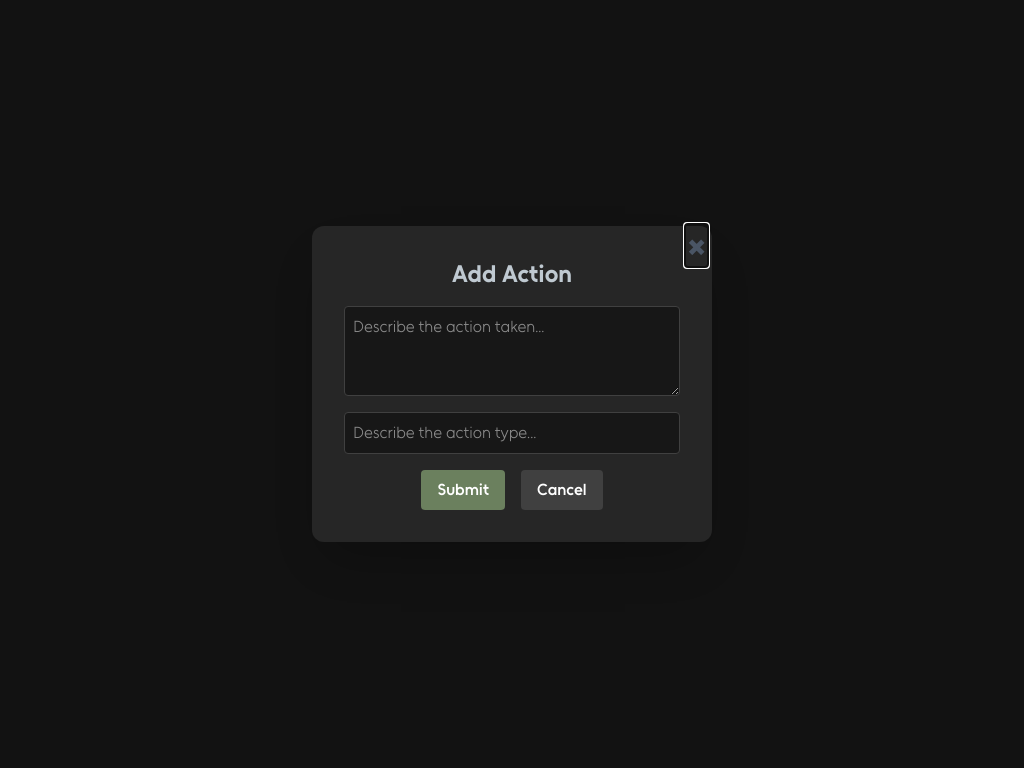
Test: shows error if submitted empty
Click the button "Submit" at coordinates (463, 490), box 421,470 -> 505,510
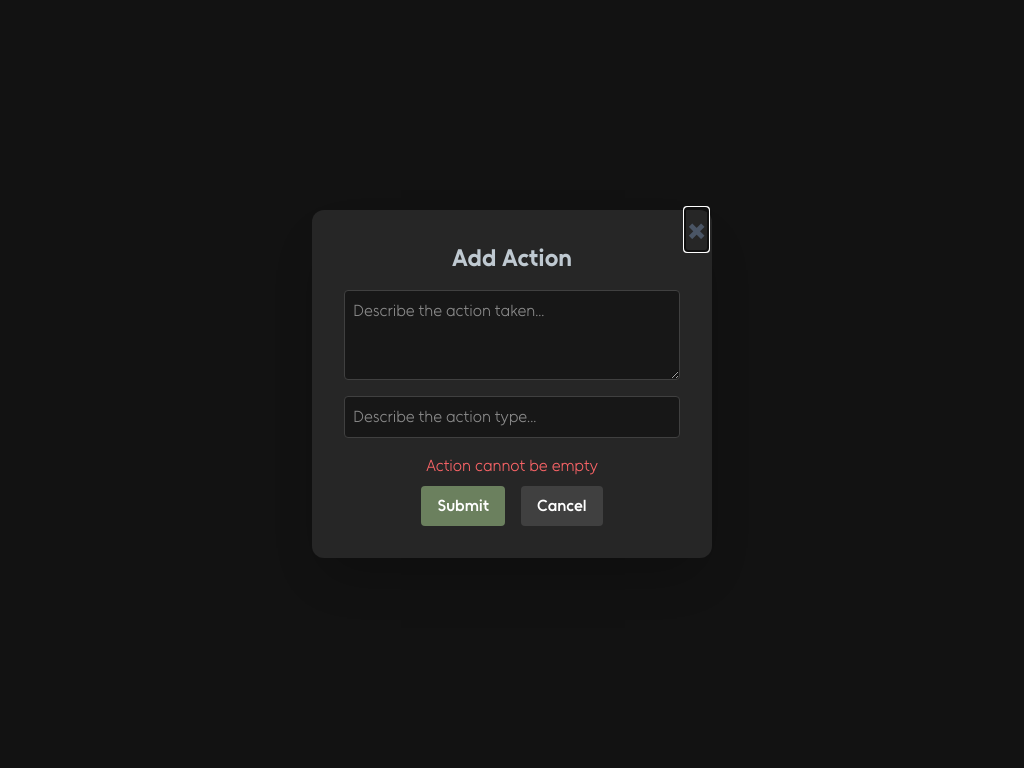
Expected: the text "Action cannot be empty" is shown, 426,456 -> 598,475
